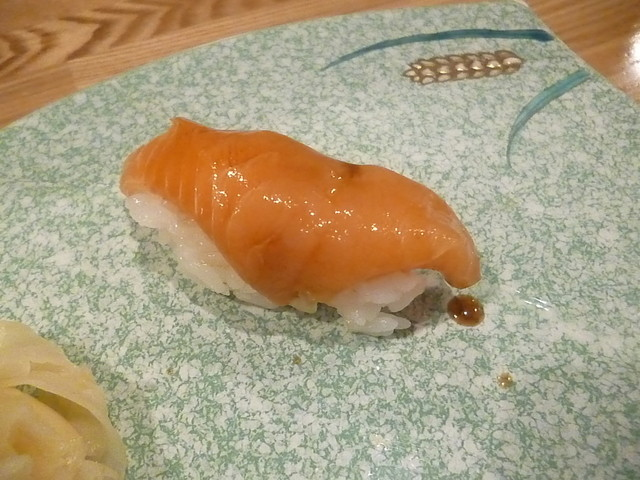salmon: (117, 122, 483, 331)
